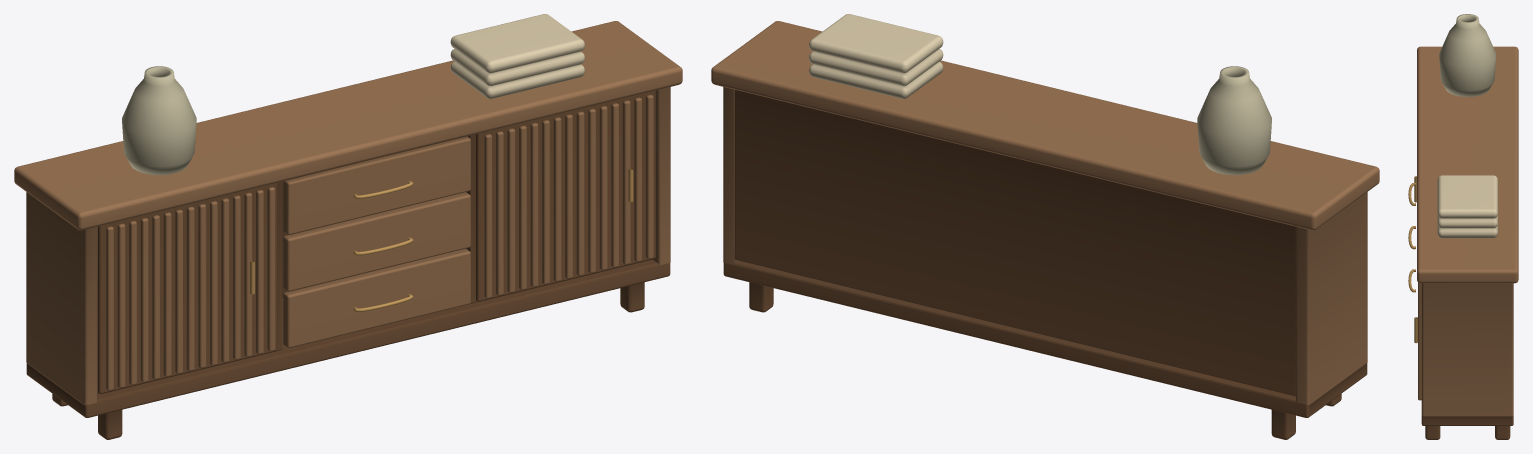
Rendered from sideboard.glb.
3 views of the same model, side by side, from view 1: azimuth 30°, elevation 25°; view 2: azimuth 150°, elevation 25°; view 3: azimuth 270°, elevation 25° (orthographic). The views are drawn at different scales.
Parts seen in each view (by area): view 1: Atelier_Sideboard; view 2: Atelier_Sideboard; view 3: Atelier_Sideboard.
Boxes of the visible parts, box(x1,y1,x2,y2) form: Atelier_Sideboard: box(14, 14, 682, 439); Atelier_Sideboard: box(711, 14, 1379, 439); Atelier_Sideboard: box(1408, 14, 1518, 439).
Bounding box in the file's own units: 3.36 × 1.75 × 0.6937.
